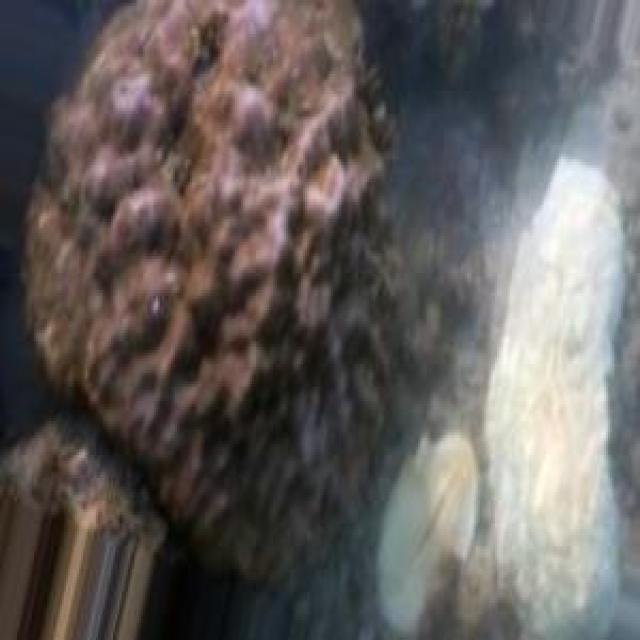Bleached: (487, 157, 624, 635), (383, 431, 479, 635)
Healthy: (27, 1, 394, 573)
